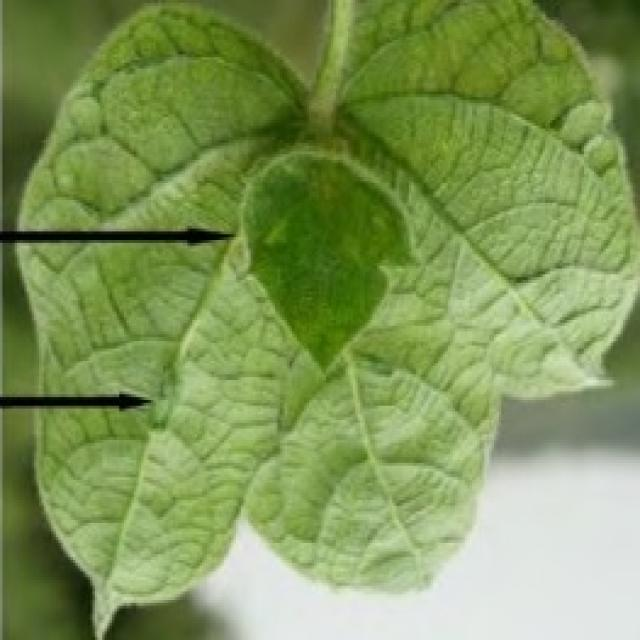Leaf Curl Virus: (133, 44, 516, 469)
